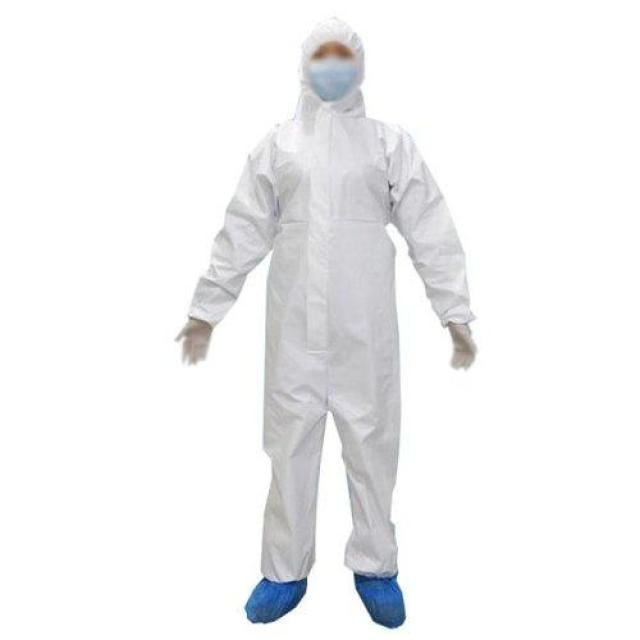Coverall: (165, 10, 481, 634)
Mask: (302, 58, 362, 97)
